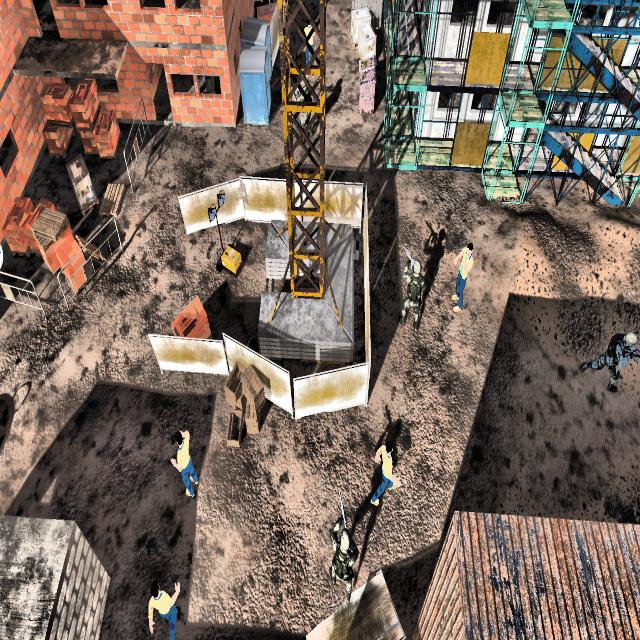bad: (583, 304, 640, 409), (322, 512, 362, 604), (397, 247, 429, 338), (287, 73, 317, 150)
good: (364, 424, 404, 520), (140, 569, 188, 640), (166, 420, 203, 502), (448, 222, 476, 325), (300, 10, 318, 65)
